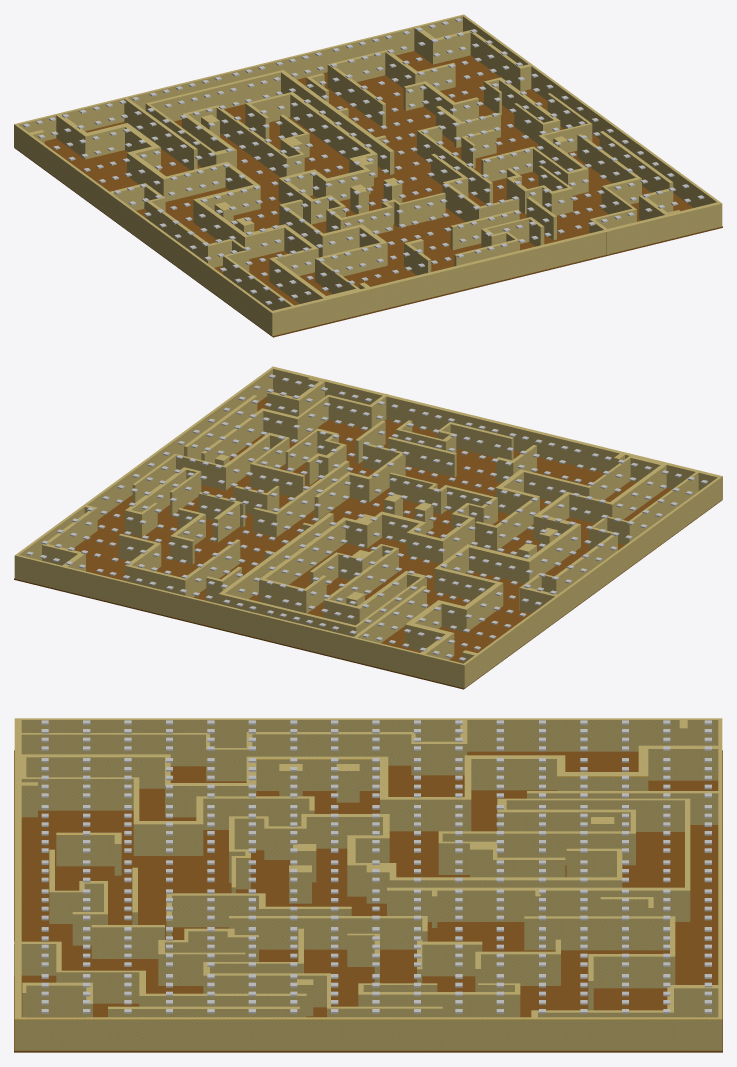
Rendered from map.obj.
3 renders of one model, top to bottom at view 1: azimuth 30°, elevation 25°; view 2: azimuth 150°, elevation 25°; view 3: azimuth 270°, elevation 25°, orthographic. The views are drawn at different scales.
Visible parts, largest first — view 1: Floor1, Wall76, Wall37, Wall48, Wall730, Wall886, Wall832, Wall321, Wall930, Wall75, Wall853, Wall781 (+42 smaller); view 2: Floor1, Wall49, Wall37, Wall77, Wall730, Wall832, Wall75, Wall618, Wall233, Wall853, Wall261, Wall884 (+50 smaller); view 3: Floor1, Wall732, Wall39, Wall854, Wall280, Wall14, Wall287, Wall301, Wall931, Wall665, Wall714, Wall217 (+63 smaller).
Boxes of the visible parts, x1=… form: Floor1: x1=14, y1=51, x2=722, y2=337; Wall76: x1=272, y1=204, x2=722, y2=335; Wall37: x1=14, y1=124, x2=272, y2=335; Wall48: x1=18, y1=16, x2=462, y2=140; Wall730: x1=463, y1=16, x2=716, y2=207; Wall886: x1=150, y1=72, x2=280, y2=121; Wall832: x1=290, y1=94, x2=370, y2=159; Wall321: x1=124, y1=99, x2=193, y2=170; Wall930: x1=216, y1=108, x2=284, y2=177; Wall75: x1=272, y1=201, x2=721, y2=313; Wall853: x1=281, y1=72, x2=389, y2=174; Wall781: x1=163, y1=165, x2=225, y2=201; Floor1: x1=14, y1=396, x2=722, y2=689; Wall49: x1=14, y1=555, x2=464, y2=687; Wall37: x1=464, y1=476, x2=722, y2=687; Wall77: x1=273, y1=369, x2=717, y2=490; Wall730: x1=19, y1=369, x2=272, y2=560; Wall832: x1=266, y1=520, x2=345, y2=584; Wall75: x1=271, y1=366, x2=719, y2=477; Wall618: x1=469, y1=547, x2=529, y2=583; Wall233: x1=387, y1=438, x2=454, y2=477; Wall853: x1=225, y1=514, x2=333, y2=599; Wall261: x1=450, y1=424, x2=511, y2=460; Wall884: x1=219, y1=594, x2=356, y2=636; Floor1: x1=14, y1=750, x2=722, y2=1052; Wall732: x1=14, y1=1019, x2=722, y2=1050; Wall39: x1=21, y1=720, x2=718, y2=751; Wall854: x1=387, y1=890, x2=690, y2=921; Wall280: x1=229, y1=918, x2=422, y2=949; Wall14: x1=524, y1=918, x2=669, y2=950; Wall287: x1=21, y1=734, x2=205, y2=766; Wall301: x1=252, y1=734, x2=411, y2=765; Wall931: x1=442, y1=833, x2=635, y2=865; Wall665: x1=26, y1=757, x2=164, y2=788; Wall714: x1=21, y1=779, x2=133, y2=810; Wall217: x1=359, y1=994, x2=520, y2=1017.
Bounding box in the file's own units: 258 × 13.91 × 257.
